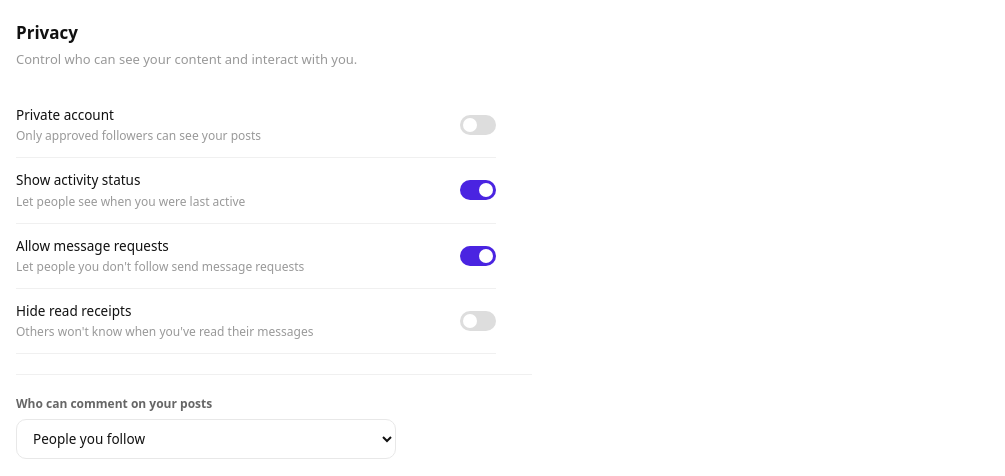
PrivacySection › saves the comment-permission dropdown on change
This screenshot has width=1005, height=476.
Select "Everyone" in the dropdown showing "People you follow" at coordinates (206, 439), box [16,419,396,459]
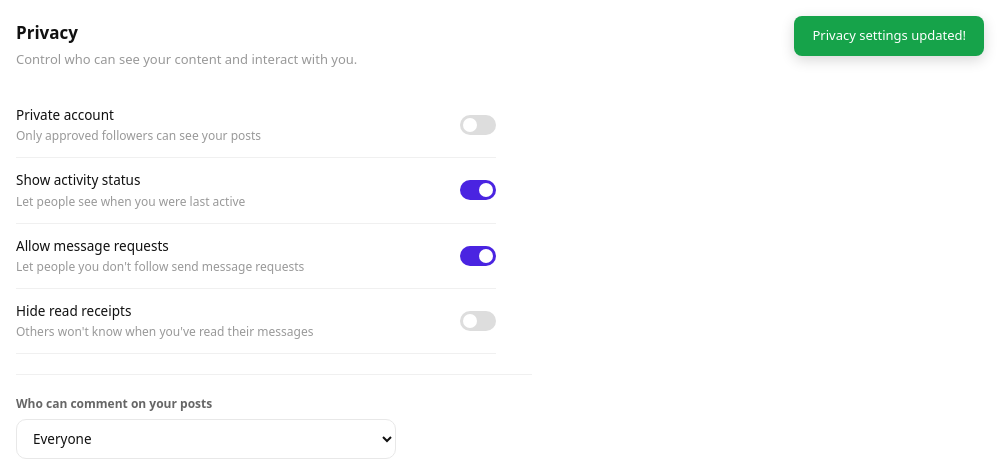
Result: the text "Privacy settings updated!" is shown at [794,16,984,56]
